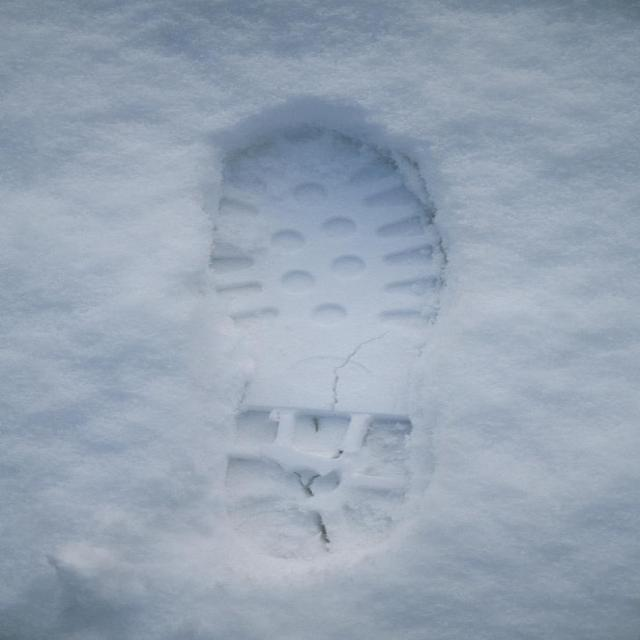human_footprint: (152, 32, 526, 580)
